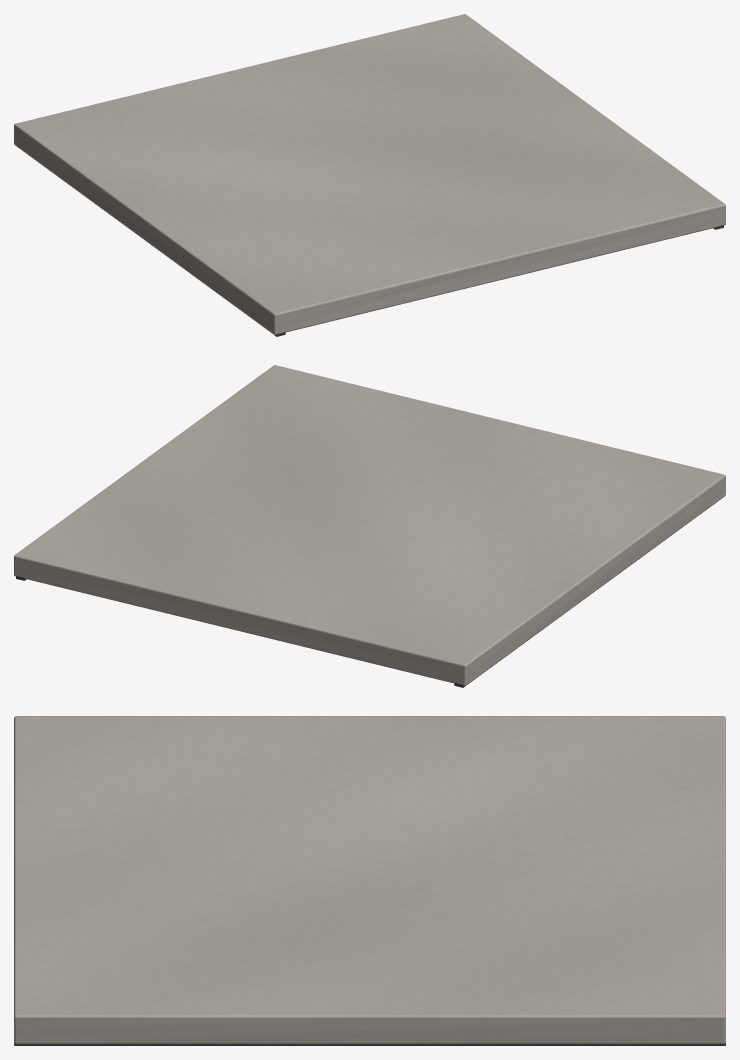
The model's file is ceiling_panel.glb.
The picture shows the model from 3 angles, top to bottom: view 1: azimuth 30°, elevation 25°; view 2: azimuth 150°, elevation 25°; view 3: azimuth 270°, elevation 25°; orthographic projection. The views are drawn at different scales.
Parts seen in each view (by area): view 1: ceiling_panel; view 2: ceiling_panel; view 3: ceiling_panel, trim.001.
Part boxes in pixels (x1,y1,x2,y2): ceiling_panel: (14,14,725,334); ceiling_panel: (14,365,725,685); ceiling_panel: (14,716,725,1044); trim.001: (14,1043,725,1045).
Bounding box in the file's own units: 2 × 0.0975 × 2.
Materials: 2 (2 with a texture image).
